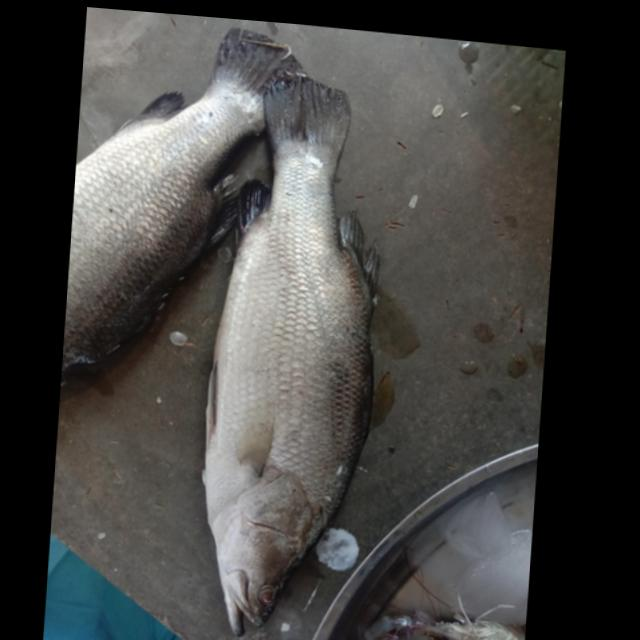Seabass: (191, 69, 395, 640)
